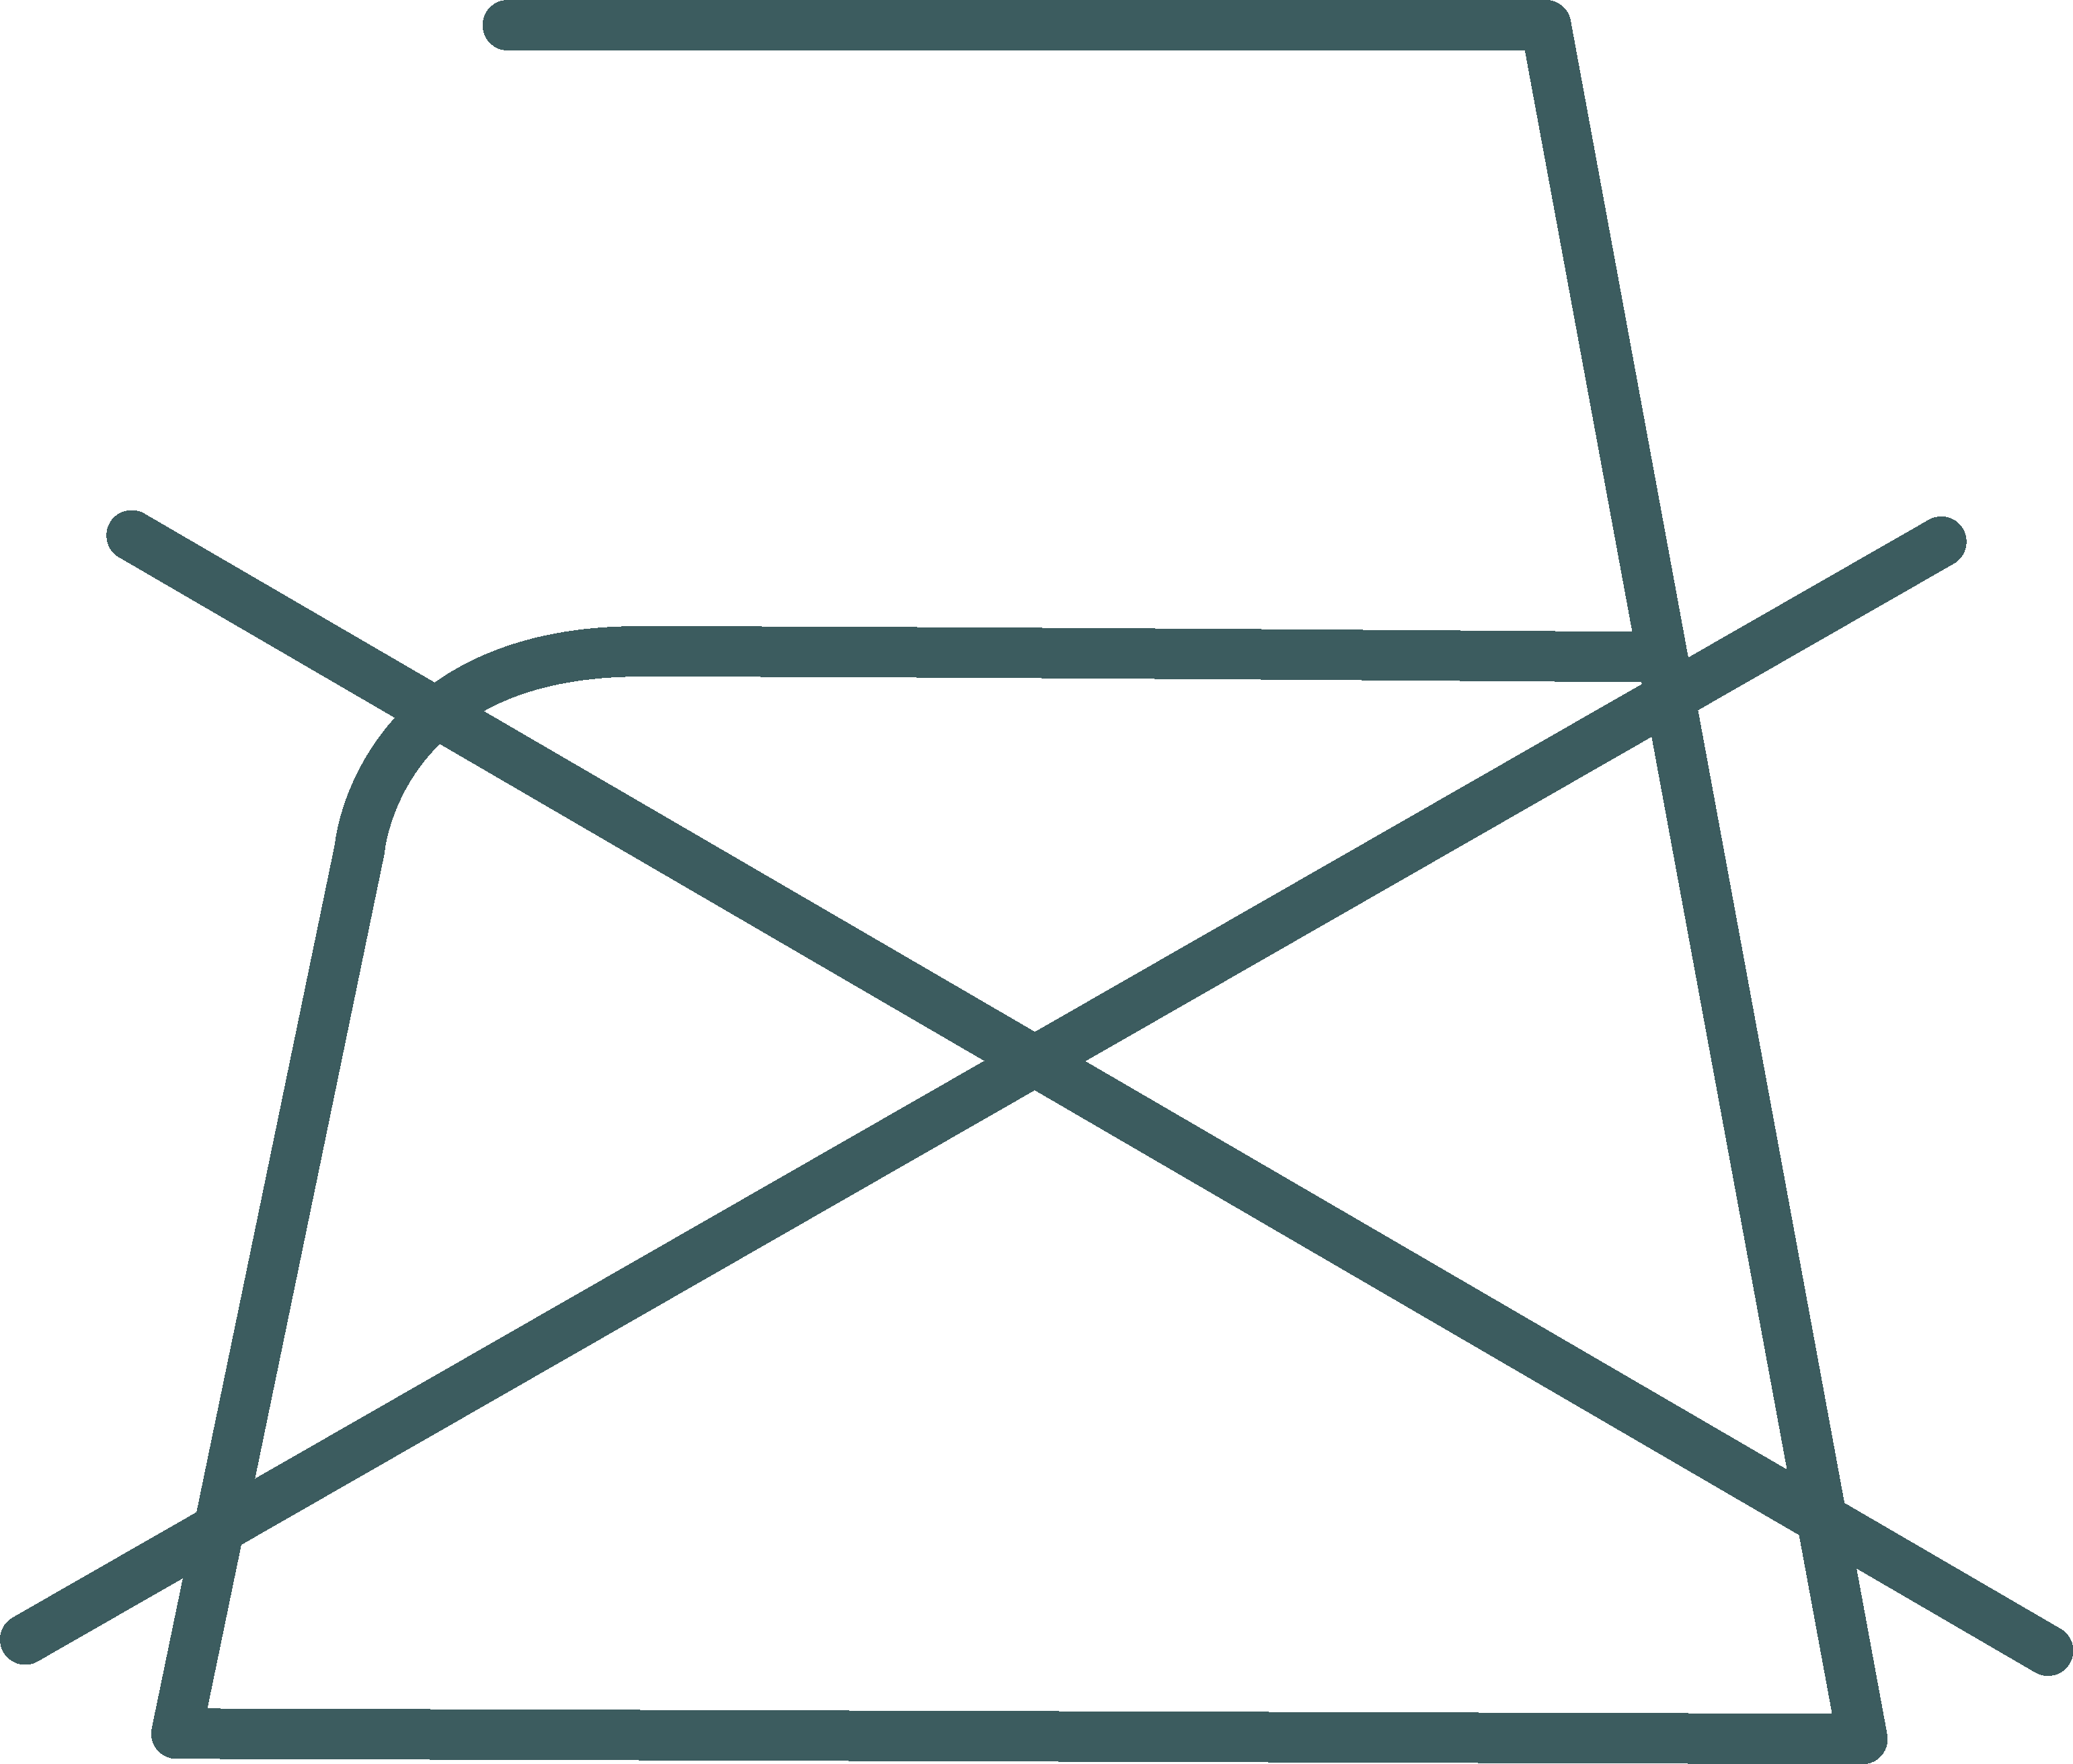do_not_iron: (105, 7, 2054, 1764)
